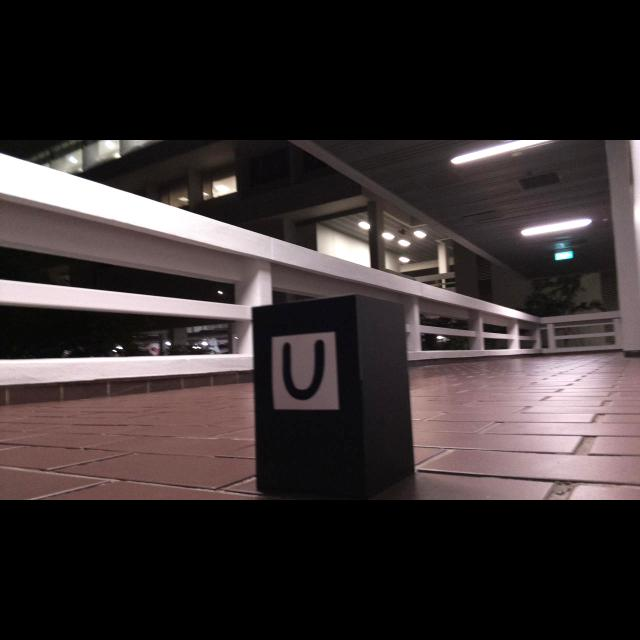U: (282, 340, 325, 401)
